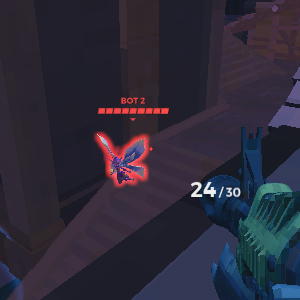model: (94, 131, 150, 192)
